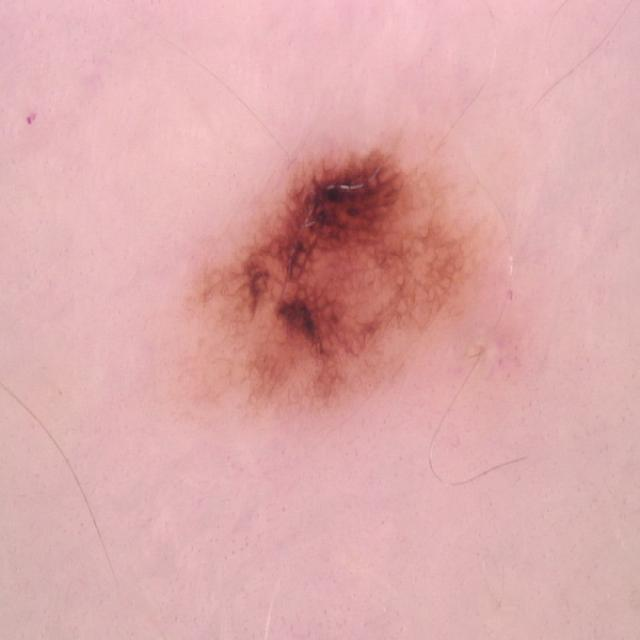NV: (173, 134, 487, 430)
